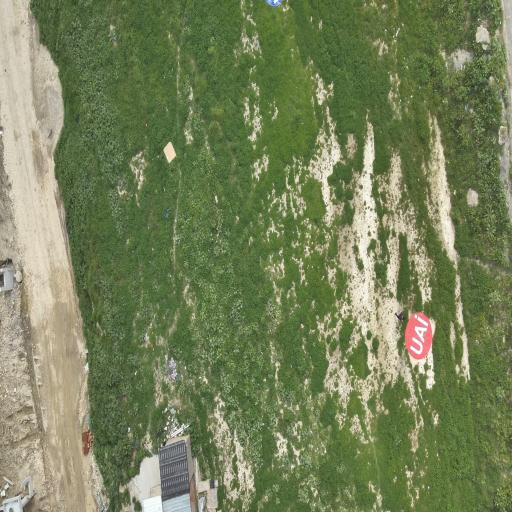UAI: (406, 313, 432, 359)
UAP: (266, 0, 282, 6)
person: (395, 312, 404, 321)
